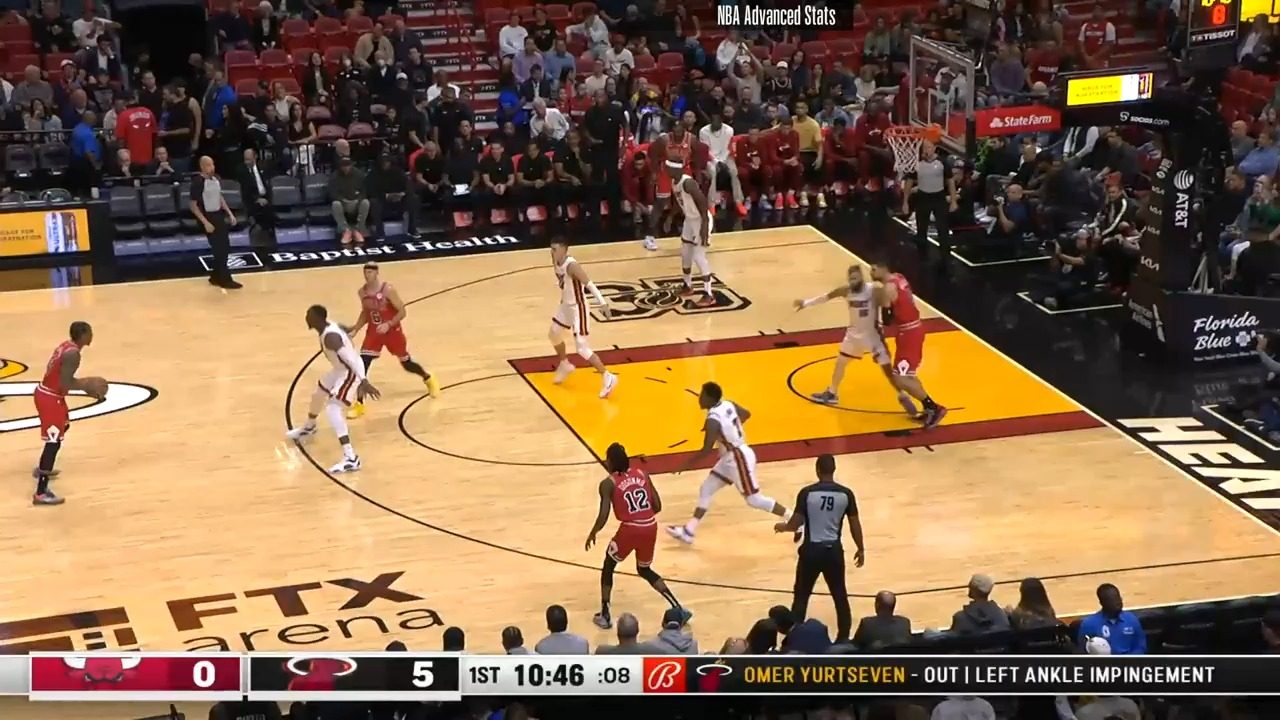net: (880, 118, 950, 175)
player: (793, 259, 936, 428), (661, 380, 792, 547), (587, 445, 692, 635), (281, 303, 371, 478), (25, 320, 103, 514), (867, 256, 943, 433), (350, 258, 441, 404), (546, 234, 622, 401), (636, 114, 716, 255), (662, 156, 722, 308)
referee: (780, 454, 871, 643), (188, 152, 241, 294), (901, 140, 952, 266)
